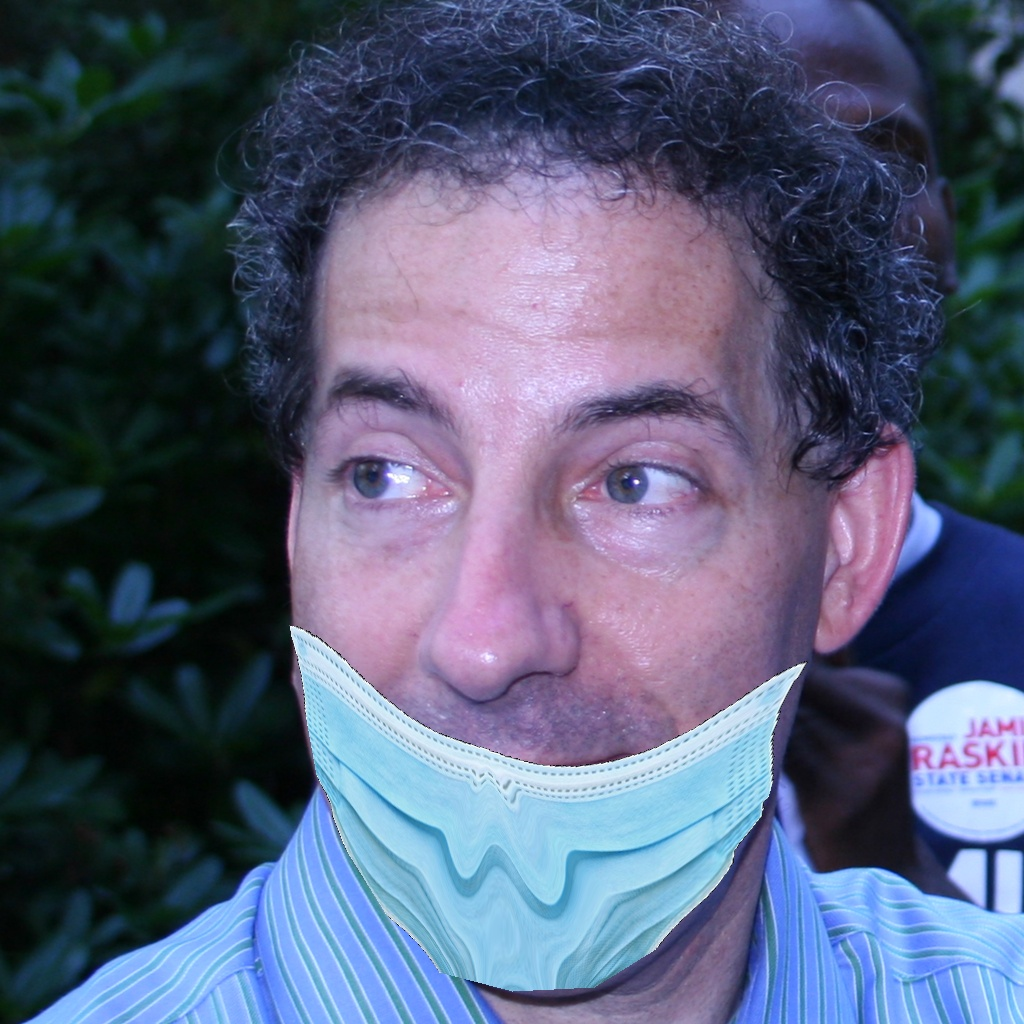mascarilla_mal_puesta: (279, 365, 829, 993)
